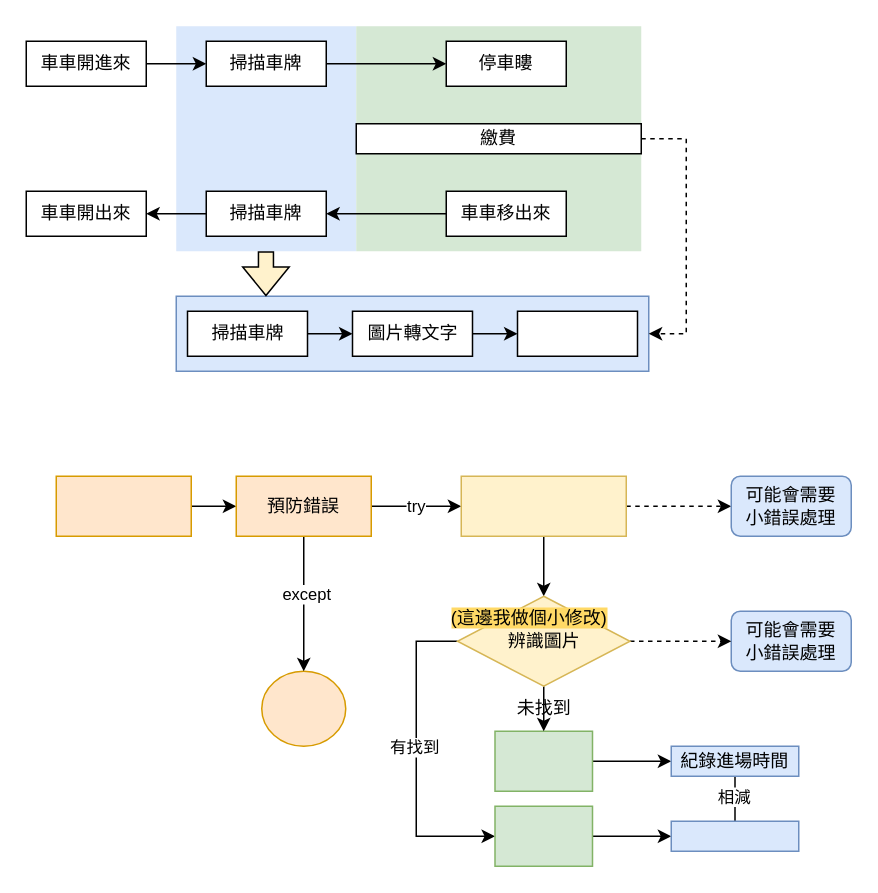
Some shapes in this 878 by 893 pixel diagram are drawn without their labels. The centre of each missing label's shape, as x and y in pixels:
停車繳費系統 (while): pixel 123 505
出場: pixel 543 835
容器(list, dict): pixel 577 333
抱錯: pixel 303 708
紀錄出場時間: pixel 734 835
讀入車牌 (這邊以手動輸入): pixel 543 505
進場: pixel 543 760
